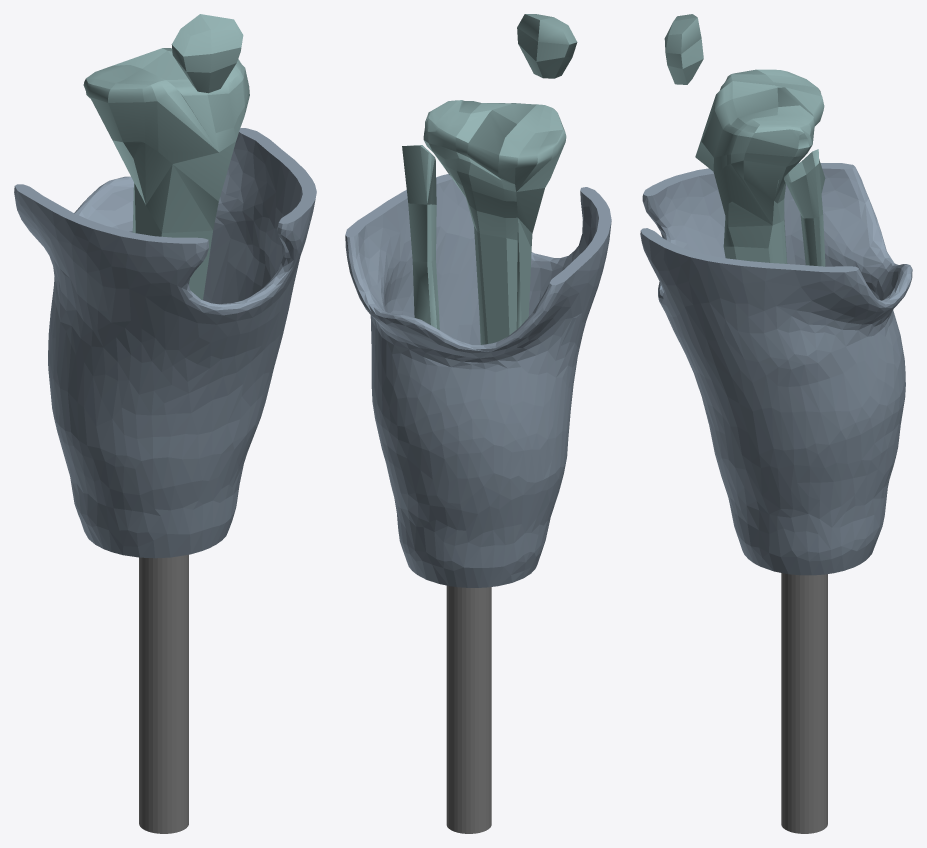
The model's file is L_Tibia.obj.
3 renders of one model, left to right at view 1: azimuth 30°, elevation 25°; view 2: azimuth 150°, elevation 25°; view 3: azimuth 270°, elevation 25°, orthographic. The views are drawn at different scales.
Parts seen in each view (by area): view 1: prothese_set.002, L_Tibia, Cylinder; view 2: prothese_set.002, L_Tibia, Cylinder; view 3: prothese_set.002, L_Tibia, Cylinder.
Part boxes in pixels (x1,y1,x2,y2): prothese_set.002: (14, 128, 316, 558); L_Tibia: (83, 14, 249, 300); Cylinder: (139, 554, 188, 833); prothese_set.002: (345, 174, 611, 587); L_Tibia: (402, 14, 577, 344); Cylinder: (446, 585, 491, 833); prothese_set.002: (640, 162, 912, 575); L_Tibia: (664, 14, 825, 266); Cylinder: (781, 573, 827, 833).
Bounding box in the file's own units: 13.42 × 45.48 × 14.08.
